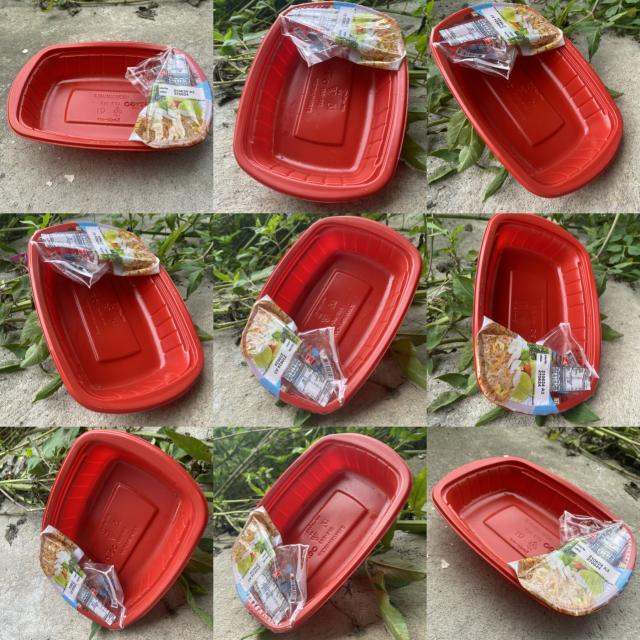Single-Use-Plastic: (430, 2, 622, 198), (231, 434, 412, 632), (240, 216, 421, 413), (234, 1, 408, 201), (40, 430, 209, 629), (29, 222, 204, 413), (432, 458, 636, 616), (472, 214, 601, 415), (8, 41, 212, 149)
